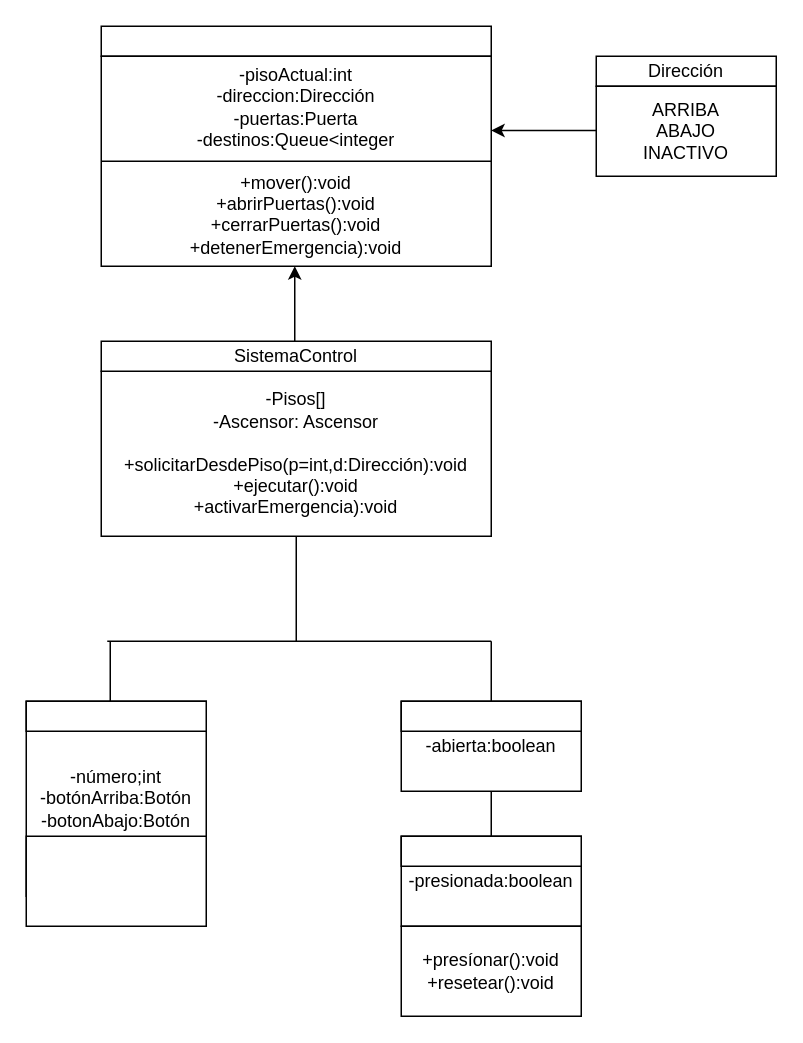
Image size: 803x1043. Some labels were removed from this diagram. The shapes that lost their labels are listed below. From the top down, each one's box as (x1, y1, x2, y2) in pixels, then its label:
(100, 25, 491, 56): Ascensor
(25, 700, 206, 731): Piso
(400, 700, 581, 731): Puerta
(400, 835, 581, 866): Botón
(25, 835, 206, 926): +presionarArriba(): +Presionarabajo():
